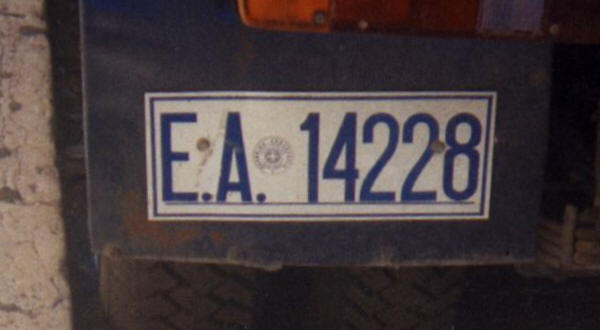license_plate: (143, 91, 498, 221)
